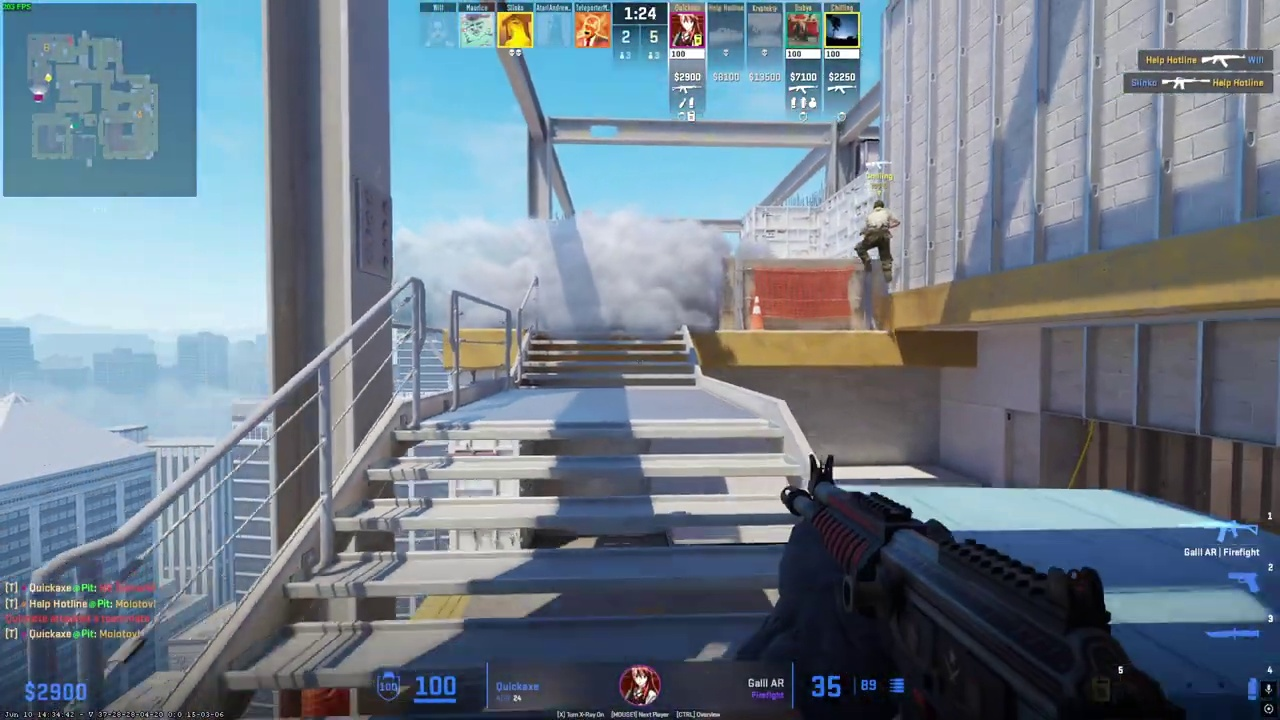Terrorist: (858, 199, 895, 281)
